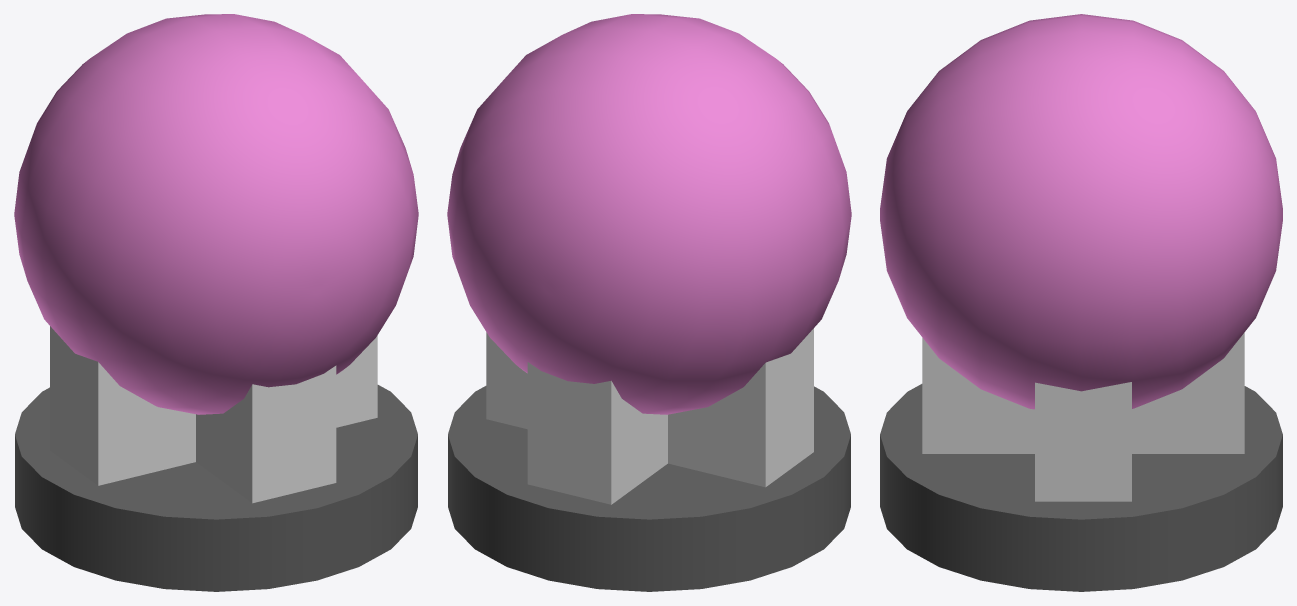
File: gems_opal_5.obj
The picture shows the model from 3 angles, left to right: view 1: azimuth 30°, elevation 25°; view 2: azimuth 150°, elevation 25°; view 3: azimuth 270°, elevation 25°; orthographic projection.
Visible parts, largest first — view 1: mergedBlocks; view 2: mergedBlocks; view 3: mergedBlocks.
Part boxes in pixels (box(x1,y1,x2,y2)): mergedBlocks: box(14, 14, 418, 591); mergedBlocks: box(447, 14, 851, 591); mergedBlocks: box(880, 14, 1282, 591).
Bounding box in the file's own units: 1 × 1.3 × 1.
